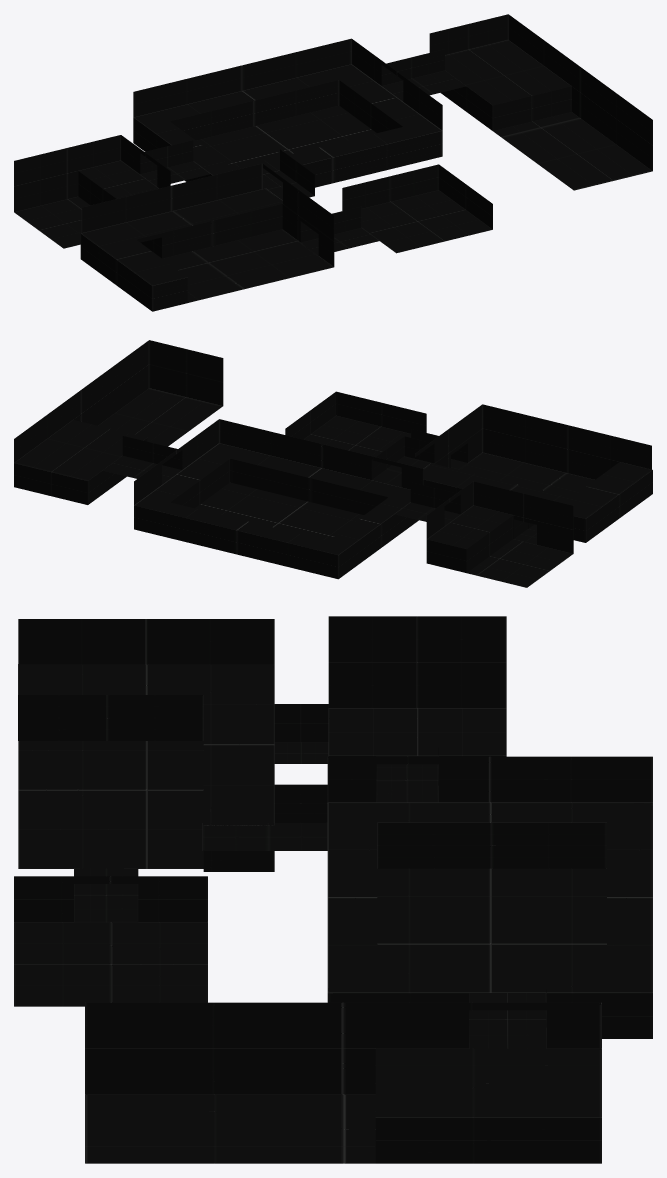
The model's file is main_level.gltf.
3 views of the same model, one above another, from view 1: azimuth 30°, elevation 25°; view 2: azimuth 150°, elevation 25°; view 3: azimuth 270°, elevation 25° (orthographic). The views are drawn at different scales.
Visible parts, largest first — view 1: Room2, Overhang33, Overhang2, Overhang43, Overhang24; view 2: Room2, Overhang33, Overhang43, Overhang2, Overhang24; view 3: Room2, Overhang33, Overhang2, Overhang43, Overhang24.
Part boxes in pixels (bbox=[...]): Room2: bbox=[14, 14, 652, 302]; Overhang33: bbox=[133, 64, 442, 187]; Overhang2: bbox=[80, 188, 282, 311]; Overhang43: bbox=[440, 40, 571, 130]; Overhang24: bbox=[78, 160, 158, 205]; Room2: bbox=[14, 340, 651, 587]; Overhang33: bbox=[134, 443, 418, 579]; Overhang43: bbox=[14, 419, 147, 504]; Overhang2: bbox=[423, 462, 652, 542]; Overhang24: bbox=[426, 505, 513, 572]; Room2: bbox=[14, 616, 652, 1163]; Overhang33: bbox=[327, 802, 652, 1038]; Overhang2: bbox=[18, 664, 274, 871]; Overhang43: bbox=[375, 1048, 601, 1163]; Overhang24: bbox=[328, 718, 506, 756].
Size of the model in its own units: 63.68 by 6 by 37.78.
1 material, 1 textured.
